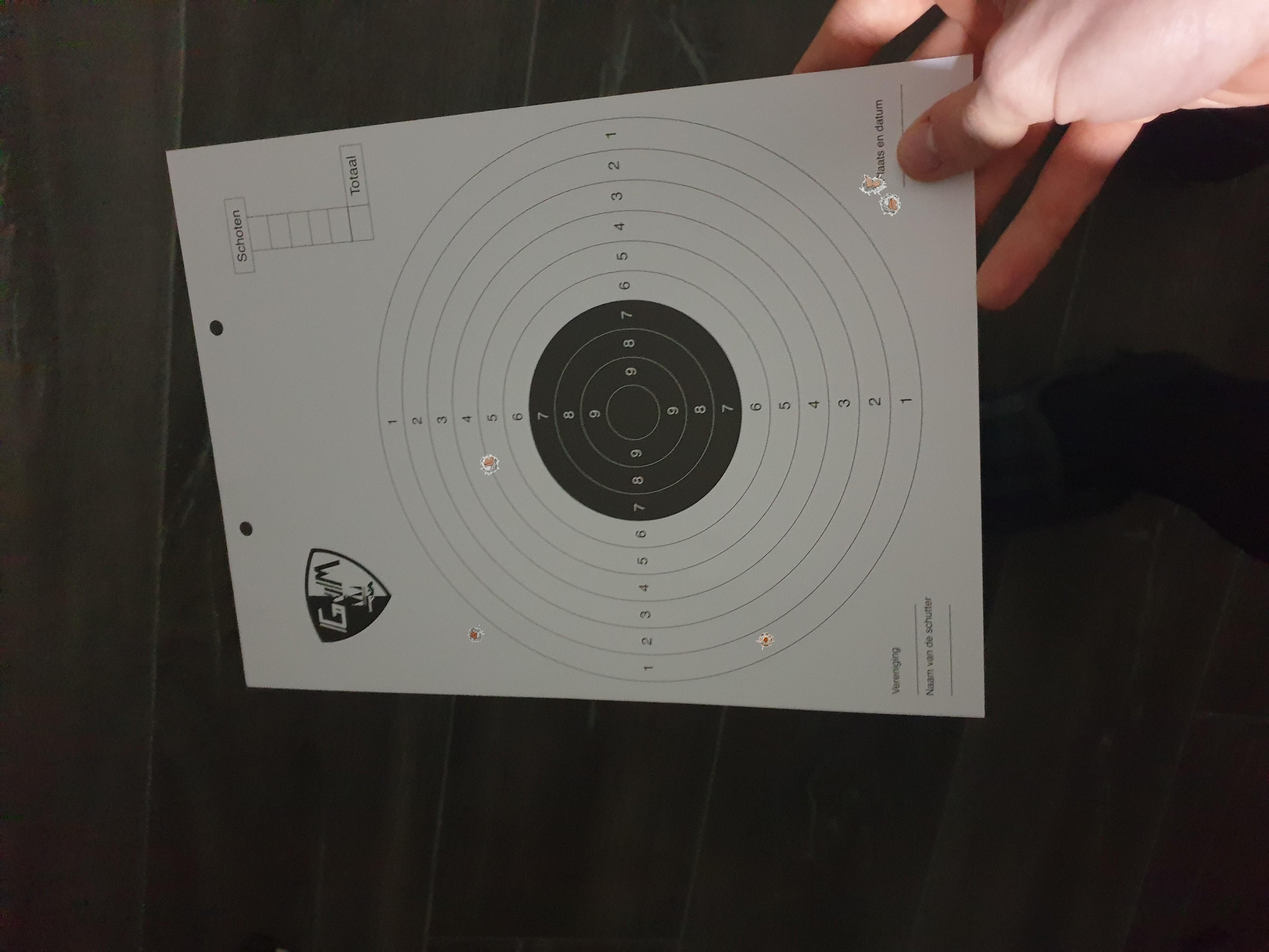hole: (479, 453, 500, 476), (880, 193, 900, 216), (756, 633, 773, 649), (860, 174, 873, 194), (468, 626, 483, 643), (873, 176, 885, 194)
